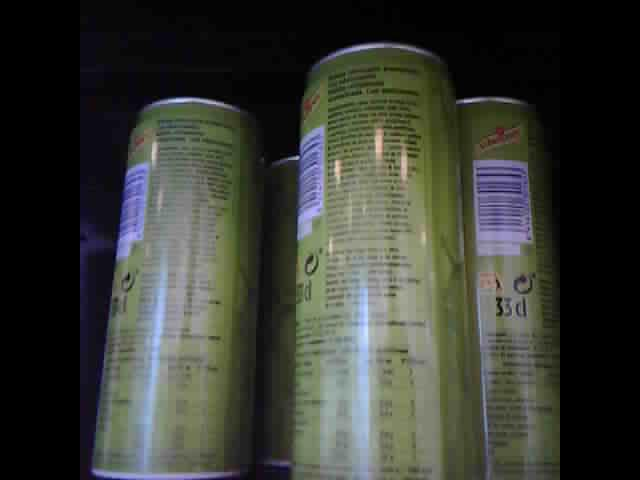schweppes: (287, 43, 469, 479), (90, 77, 250, 478), (426, 68, 559, 477), (254, 145, 302, 467)
